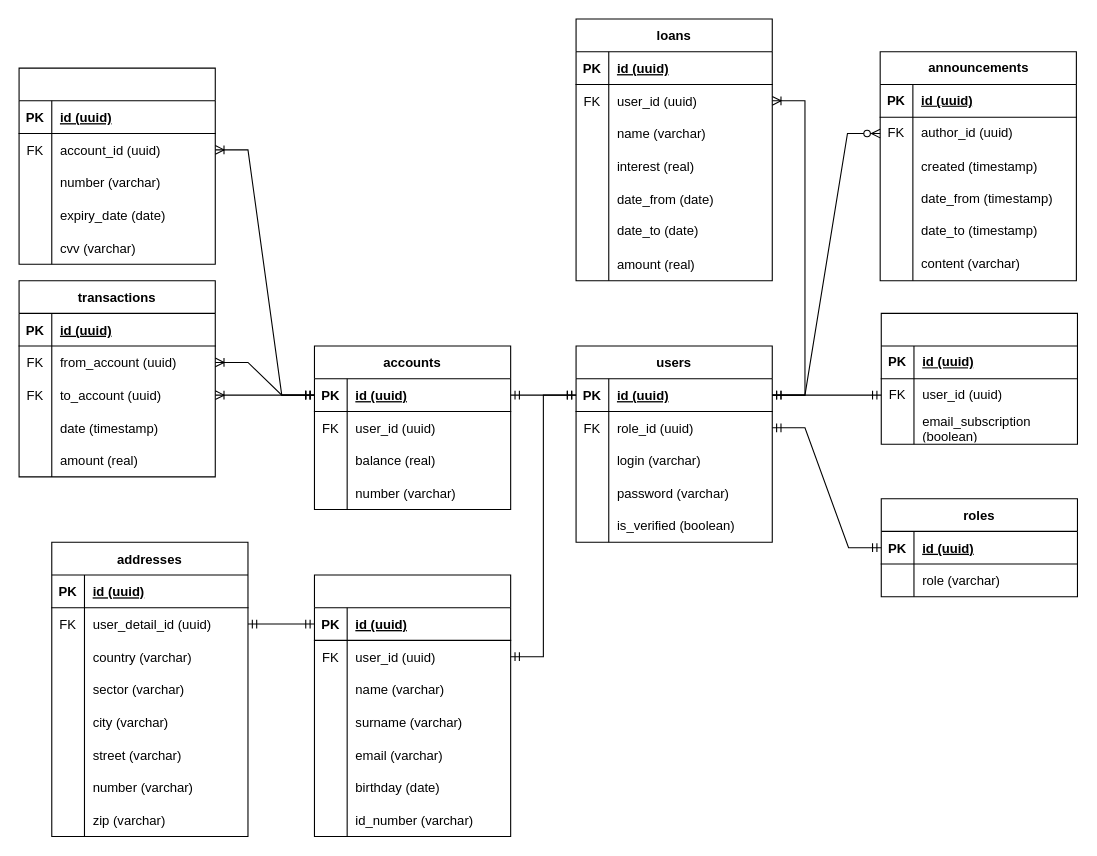
Some shapes in this 1097 by 856 pixel diagram are drawn without their labels. Each missing label, with the box of its shape:
cards: (18, 67, 215, 264)
user_details: (313, 574, 511, 837)
user_options: (880, 312, 1077, 444)
